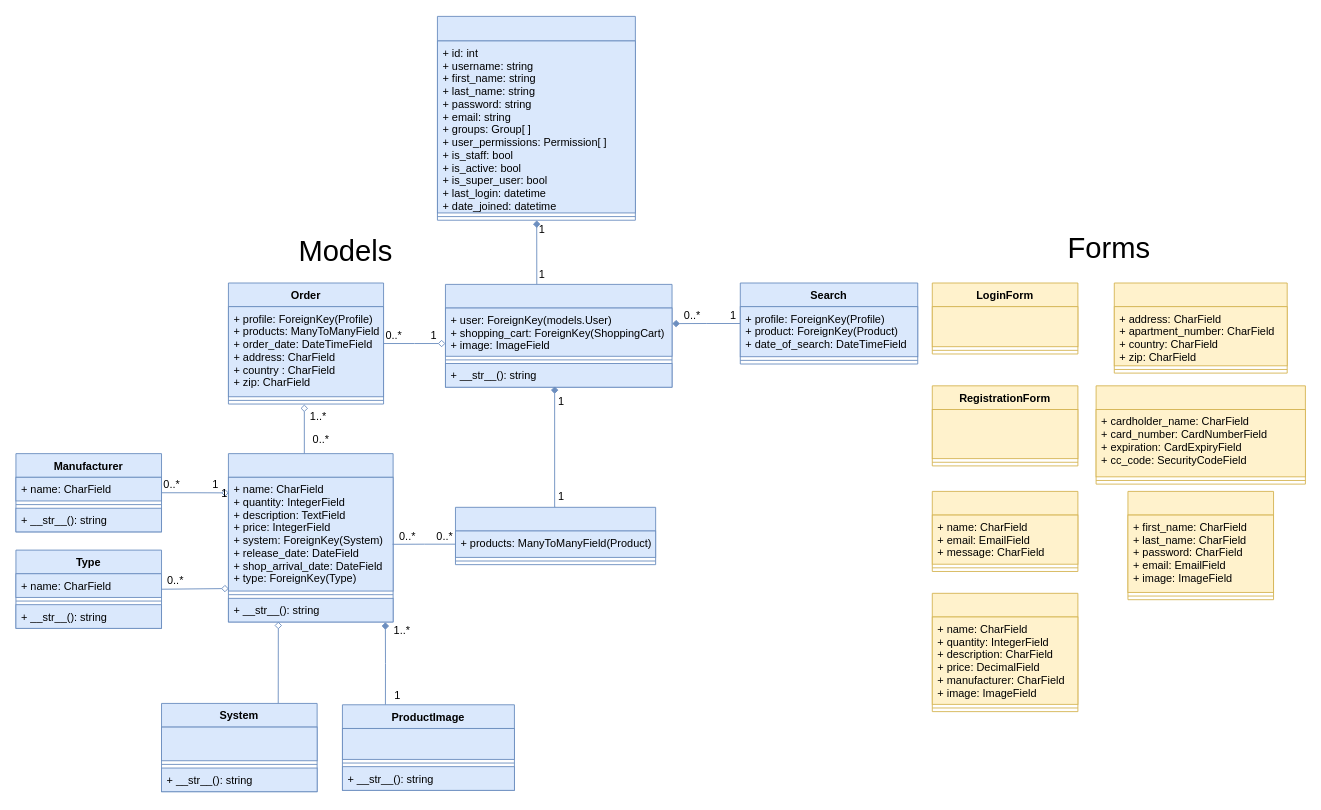
Image size: 1321x810. Some labels were removed from this diagram. Each missing label, with the box of its shape:
+ abbreviation: CharField + manufacturer : Manufacturer: (161, 726, 317, 761)
+ email: EmailField + password: CharField: (931, 306, 1078, 347)
+ image: ImageField + product: ForeignKey(Product): (342, 728, 514, 759)
+ name: CharField + email: EmailField + password: CharField: (931, 409, 1078, 459)
ContactForm: (931, 490, 1078, 571)
models.User: (437, 15, 635, 220)
PaymentForm: (1095, 385, 1305, 484)
Product: (228, 453, 393, 622)
ProductForm: (931, 592, 1078, 712)
Profile: (445, 283, 672, 387)
ProfileForm: (1127, 490, 1274, 600)
ShippingForm: (1113, 282, 1287, 373)
ShoppingCart: (455, 506, 656, 565)
